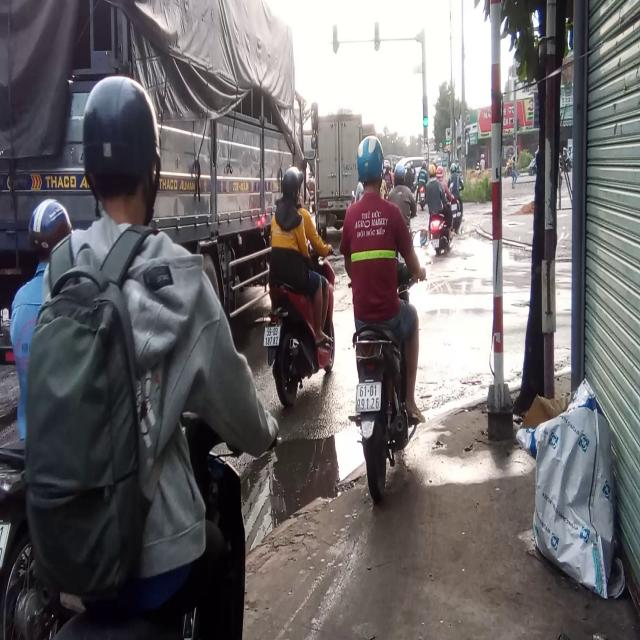bien_trang: (353, 377, 384, 416), (265, 325, 281, 348)
